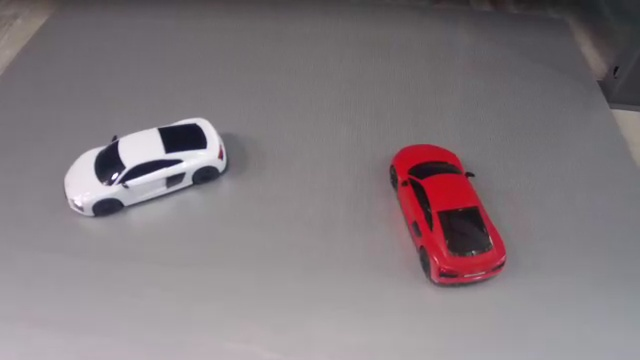car: (62, 116, 230, 217), (390, 143, 508, 286)
